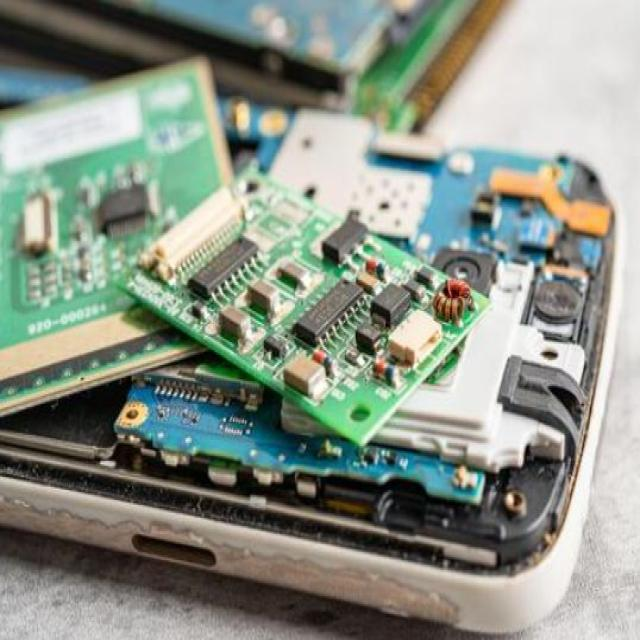electronic: (0, 51, 622, 634)
